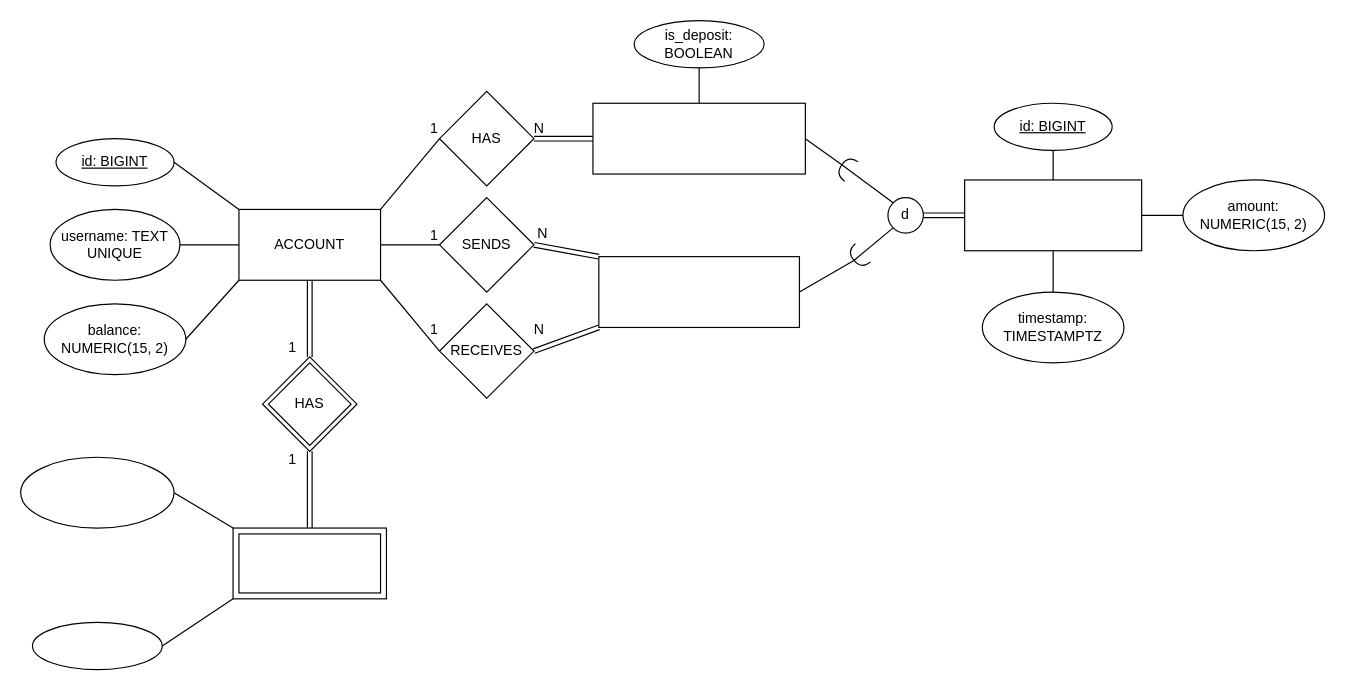
Image size: 1345x690. Some labels were removed from this diagram. Each missing label, with the centre of its shape:
"account_id: BIGINT (FK)" goes at [96,492].
"AUTHENTICATION" goes at [309,563].
"BANK_TRANSACTION" goes at [1052,215].
"password: TEXT" goes at [96,645].
"STANDARD_TRANSACTION" goes at [698,138].
"TRANSFER_TRANSACTION" goes at [698,291].
